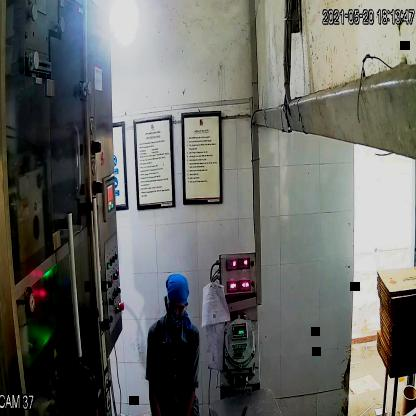goggles: (164, 295, 189, 317)
